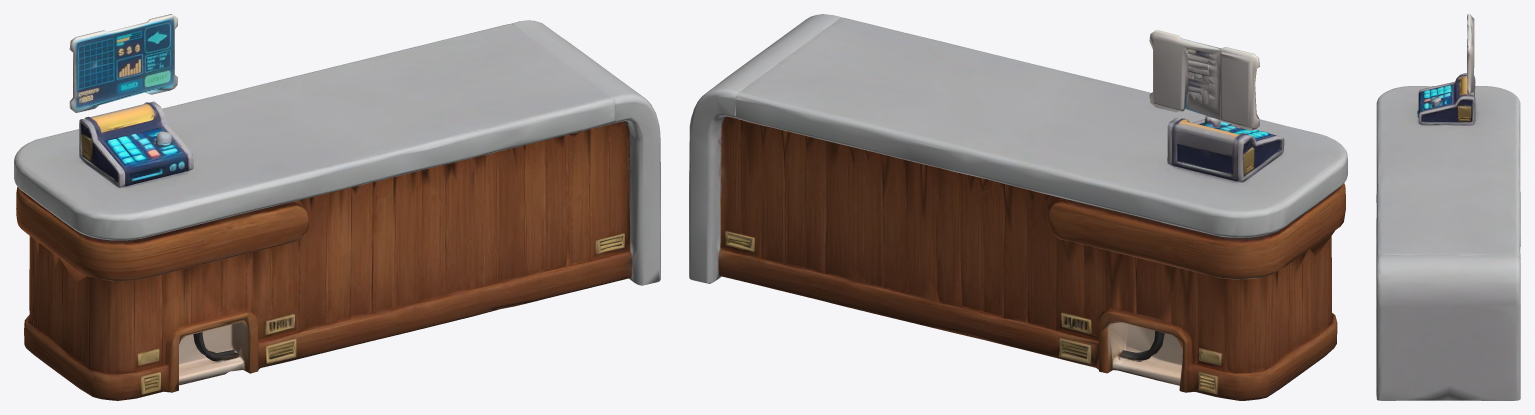
Rendered from counter.glb.
3 renders of one model, left to right at view 1: azimuth 30°, elevation 25°; view 2: azimuth 150°, elevation 25°; view 3: azimuth 270°, elevation 25°, orthographic. The views are drawn at different scales.
Parts seen in each view (by area): view 1: tripo_node_5371e237-7c12-4663-b5f2-ee0af63f82a1; view 2: tripo_node_5371e237-7c12-4663-b5f2-ee0af63f82a1; view 3: tripo_node_5371e237-7c12-4663-b5f2-ee0af63f82a1.
Boxes of the visible parts, bbox=[...] form: tripo_node_5371e237-7c12-4663-b5f2-ee0af63f82a1: bbox=[14, 14, 660, 400]; tripo_node_5371e237-7c12-4663-b5f2-ee0af63f82a1: bbox=[689, 14, 1347, 400]; tripo_node_5371e237-7c12-4663-b5f2-ee0af63f82a1: bbox=[1376, 14, 1520, 400].
Bounding box in the file's own units: 0.9799 × 0.531 × 0.3215.
Materials: 1 (1 with a texture image).
